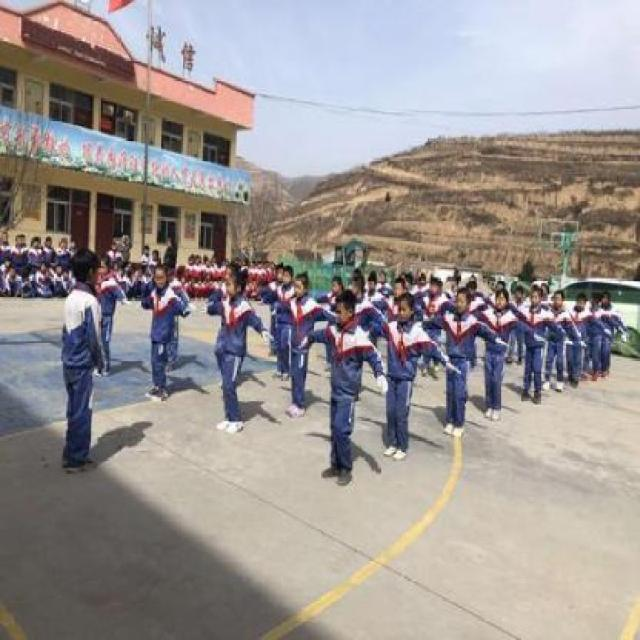hand_glove: (443, 355, 462, 383), (376, 372, 390, 396), (492, 334, 510, 349), (603, 324, 617, 342), (534, 328, 548, 346), (296, 332, 310, 350), (260, 328, 274, 340), (186, 300, 199, 311), (562, 335, 570, 351), (203, 306, 212, 319), (576, 337, 586, 348), (122, 296, 129, 310)
head_nohelmet: (72, 248, 105, 288), (226, 269, 245, 288), (397, 297, 417, 311), (349, 278, 368, 291), (456, 288, 472, 303), (338, 294, 354, 309), (280, 263, 294, 279), (151, 262, 166, 276), (289, 272, 308, 283), (494, 290, 508, 302), (391, 278, 403, 290), (531, 290, 543, 302), (577, 294, 585, 308), (551, 291, 563, 300)
person: (58, 245, 115, 466), (322, 300, 368, 478), (211, 268, 254, 429), (386, 297, 419, 455), (143, 260, 177, 406), (517, 288, 555, 406), (442, 292, 471, 432), (286, 270, 312, 416), (485, 290, 512, 422)
